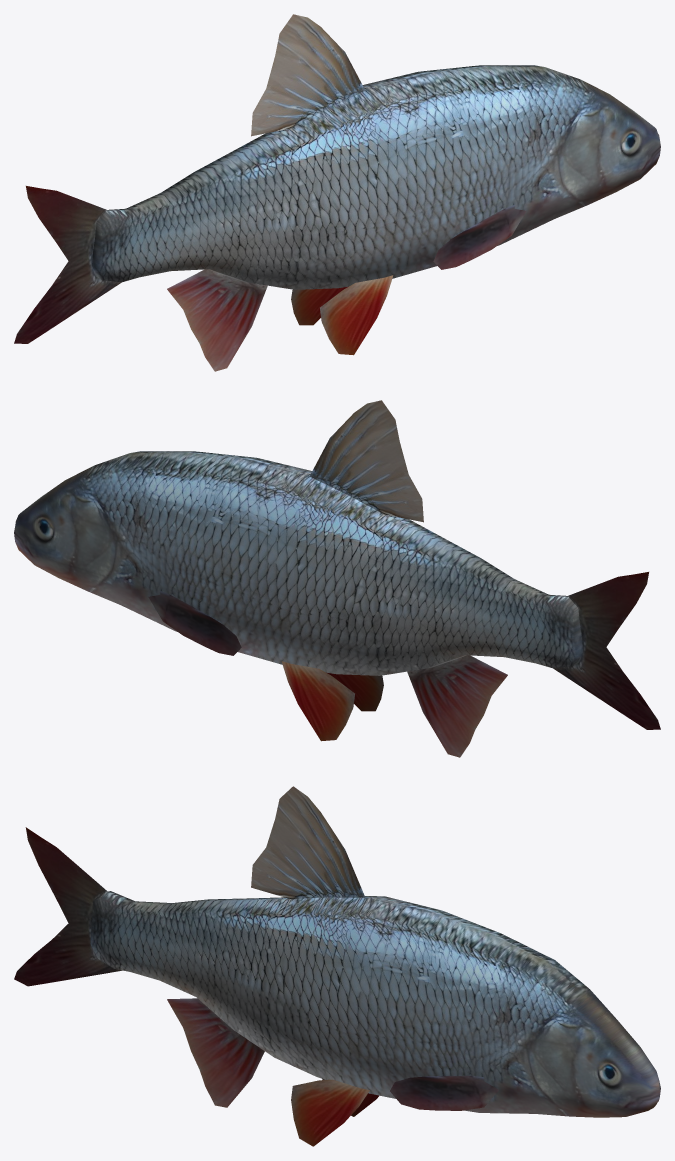
The model's file is Ide.glb.
3 views of the same model, one above another, from view 1: azimuth 30°, elevation 25°; view 2: azimuth 150°, elevation 25°; view 3: azimuth 330°, elevation 25° (orthographic).
Parts seen in each view (by area): view 1: Ide; view 2: Ide; view 3: Ide.
Part boxes in pixels (bbox=[...]): Ide: bbox=[14, 14, 660, 371]; Ide: bbox=[14, 400, 660, 757]; Ide: bbox=[14, 786, 660, 1146].
Bounding box in the file's own units: 2 × 1 × 0.2345.
1 material, 1 textured.
